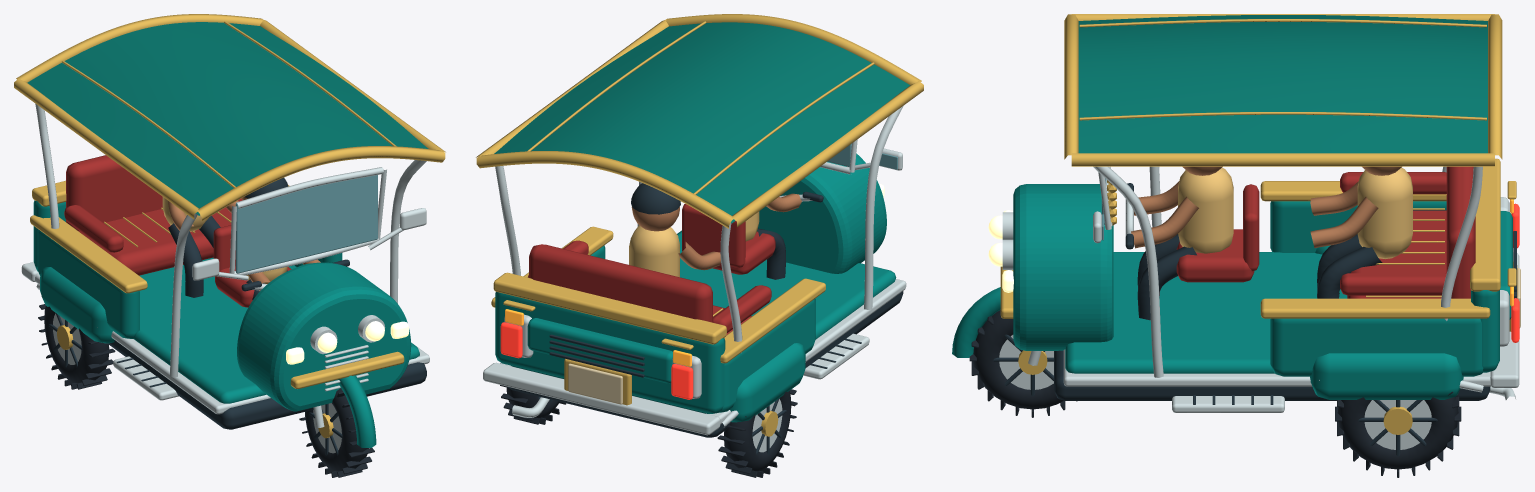
The model's file is hero-tuktuk.glb.
The picture shows the model from 3 angles, left to right: view 1: azimuth 30°, elevation 25°; view 2: azimuth 150°, elevation 25°; view 3: azimuth 270°, elevation 25°; orthographic projection. The views are drawn at different scales.
Visible parts, largest first — view 1: Body, RearLeftSpin, SteeringSpin, Passenger, Steering, Driver; view 2: Body, Passenger, RearLeftSpin, Driver, RearRightSpin; view 3: Body, Passenger, Driver, RearRightSpin, SteeringSpin, Steering.
Part boxes in pixels (<box>): Body: <box>14,14,445,429</box>; RearLeftSpin: <box>38,296,115,389</box>; SteeringSpin: <box>299,388,374,477</box>; Passenger: <box>162,197,238,297</box>; Steering: <box>313,375,376,447</box>; Driver: <box>242,177,320,299</box>; Body: <box>476,14,923,437</box>; Passenger: <box>629,183,720,277</box>; RearLeftSpin: <box>717,389,797,477</box>; Driver: <box>745,193,801,279</box>; RearRightSpin: <box>500,385,566,424</box>; Body: <box>988,14,1520,412</box>; Passenger: <box>1310,166,1412,298</box>; Driver: <box>1131,166,1233,320</box>; RearRightSpin: <box>1335,391,1461,477</box>; SteeringSpin: <box>969,310,1077,417</box>; Steering: <box>952,287,1041,365</box>.
Bounding box in the file's own units: 2.12 × 2.45 × 3.52.
